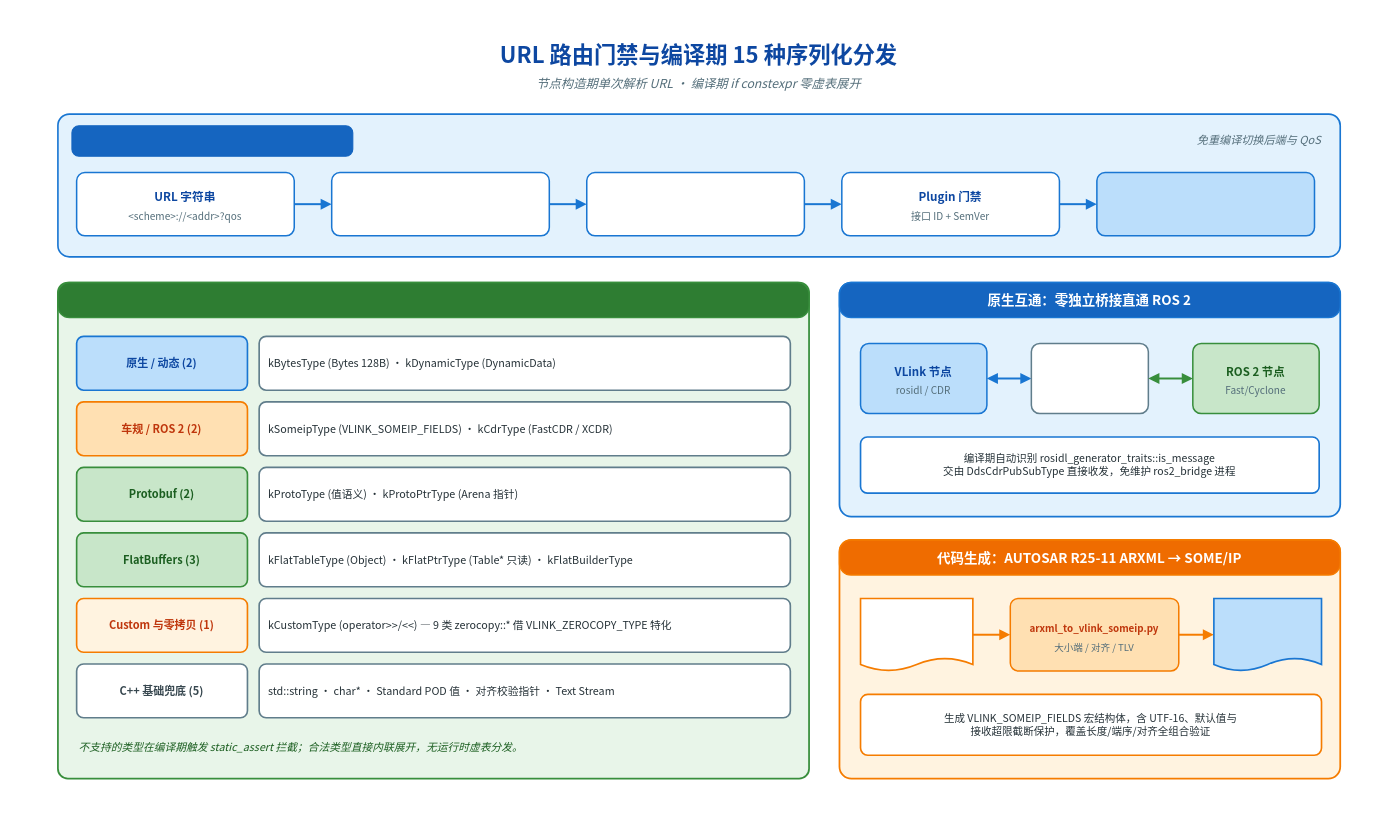
The diagram is 1397 pixels wide and 835 high, and some of its shapes have lost their labels. The shapes that lost their labels are listed below. From the top down, each one's box as (x1, y1, x2, y2) in pixels, then its label:
(71, 125, 353, 156): 控制面：节点构造期执行一次
(330, 171, 550, 236): GlobalUrlRemap VLINK_URL_REMAP JSON
(585, 171, 805, 236): UrlParser + QoS 16 组预设 / 热覆写
(1096, 171, 1315, 236): NodeImpl 工厂 绑定后端与发现上报
(57, 281, 809, 318): Serializer::get_type_of<T>() — 15 种编译期枚举 (if constexpr)
(1030, 342, 1149, 414): XCDR 4B 头 RTPS 线格式
(859, 597, 973, 671): ARXML R25-11
(1212, 597, 1322, 671): C++17 .h 头文件
